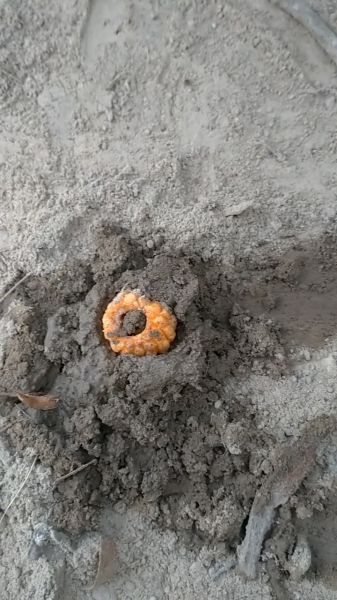eggs: (100, 285, 180, 360)
